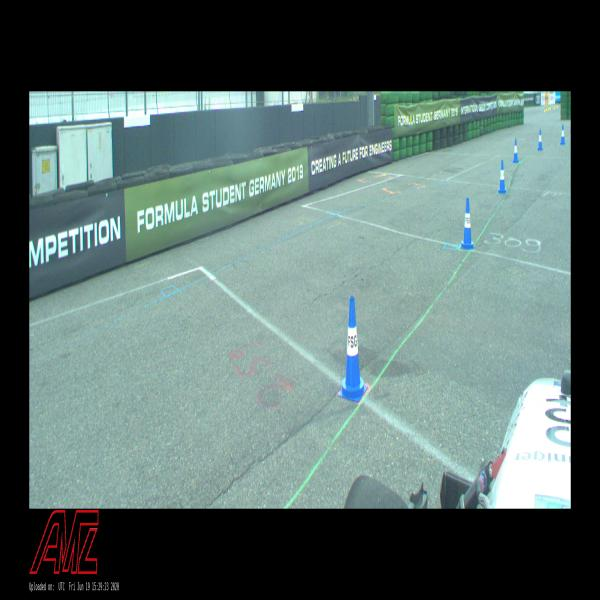blue_cone: (338, 296, 368, 402), (460, 198, 474, 251), (498, 160, 507, 194), (512, 139, 518, 163), (560, 124, 566, 144), (538, 129, 542, 150)
